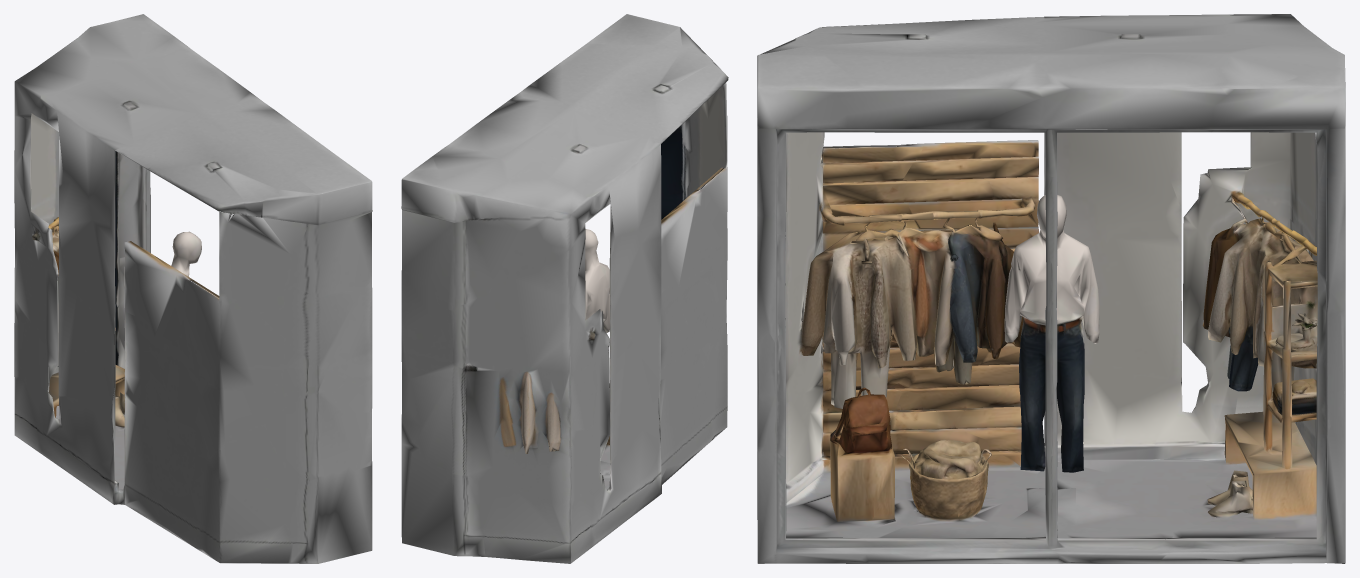
File: frontelw.glb
The picture shows the model from 3 angles, left to right: view 1: azimuth 30°, elevation 25°; view 2: azimuth 150°, elevation 25°; view 3: azimuth 270°, elevation 25°; orthographic projection. The views are drawn at different scales.
Visible parts, largest first — view 1: tripo_node_15f023c5-fded-41e5-b31d-ea46dc93f6ba; view 2: tripo_node_15f023c5-fded-41e5-b31d-ea46dc93f6ba; view 3: tripo_node_15f023c5-fded-41e5-b31d-ea46dc93f6ba.
Part boxes in pixels (box(x1,y1,x2,y2)): tripo_node_15f023c5-fded-41e5-b31d-ea46dc93f6ba: box(14, 14, 372, 563); tripo_node_15f023c5-fded-41e5-b31d-ea46dc93f6ba: box(401, 14, 728, 563); tripo_node_15f023c5-fded-41e5-b31d-ea46dc93f6ba: box(757, 14, 1345, 563).
Bounding box in the file's own units: 0.9132 × 2.1 × 2.35.
Materials: 1 (1 with a texture image).
